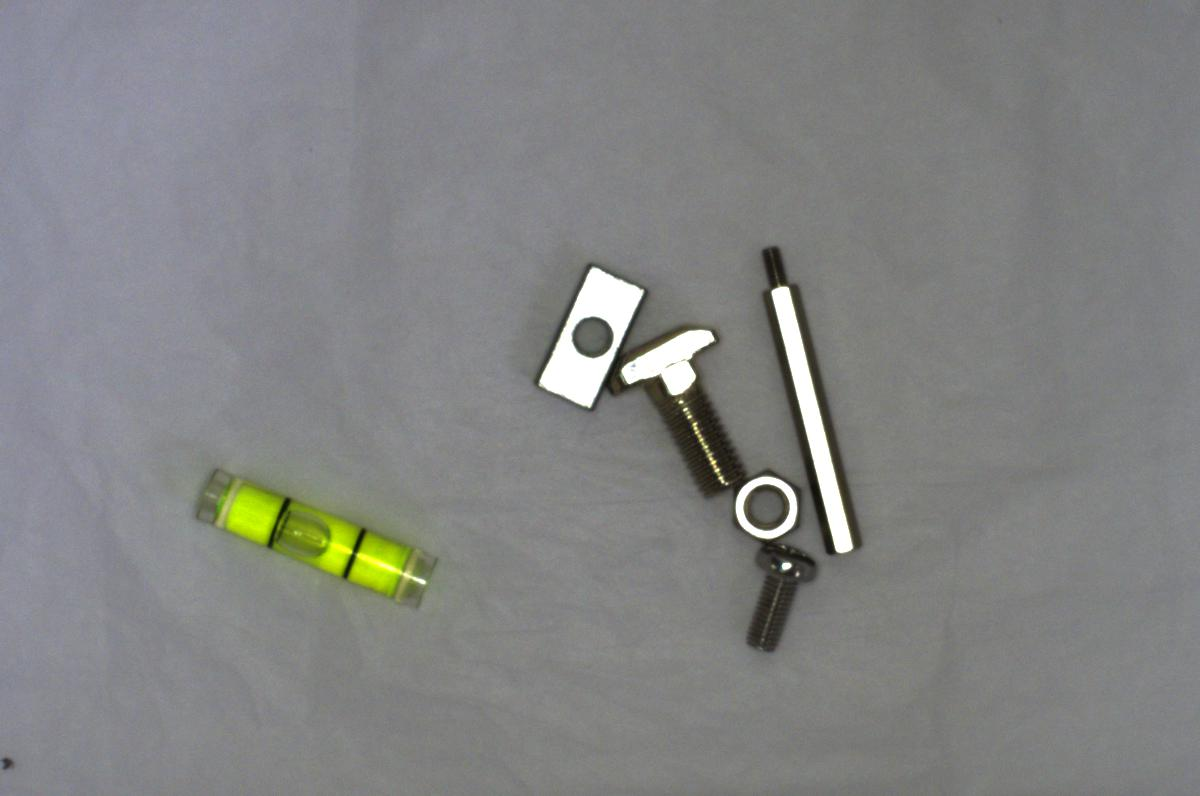Hexagon nut: (718, 462, 808, 548)
Hexagonal steel column: (755, 234, 867, 562)
Horizontal bubble: (186, 463, 446, 615)
Rectangular nut: (531, 256, 644, 410)
Round head screw: (742, 542, 818, 655)
T-shaped screw: (615, 323, 758, 490)
